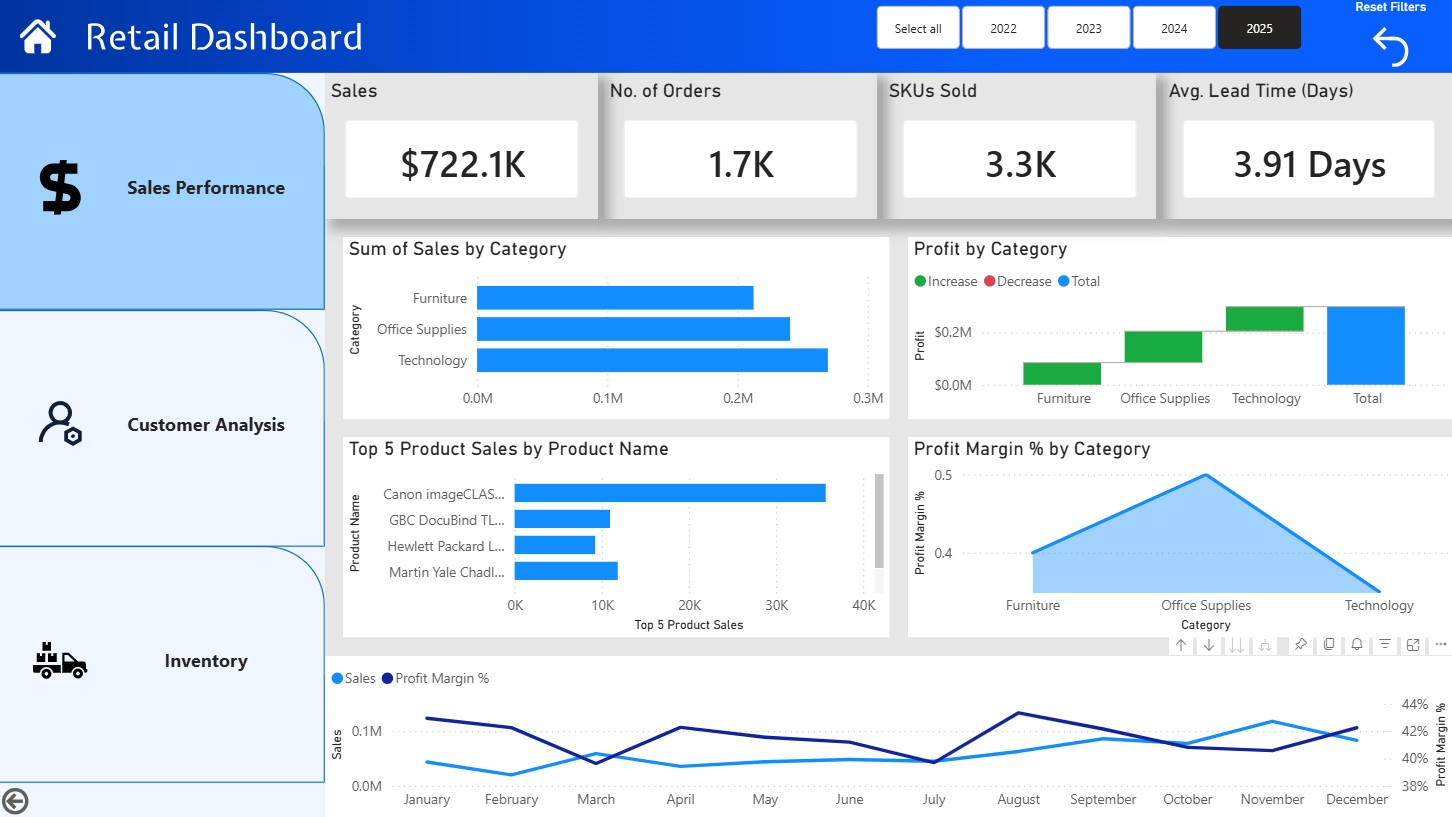

The page's visual inventory and layout, read from the dashboard file:
{"tool":"powerbi","page":{"name":"Sales Performance","canvas":[1280,720],"ordinal":0},"visuals":[{"type":"image","box":[0,0,1280,64],"z":0},{"type":"shape","box":[0,64,288,208],"z":0,"group":"g1"},{"type":"shape","box":[0,272,288,208],"z":0,"group":"g2"},{"type":"shape","box":[0,480,288,208],"z":0,"group":"g3"},{"type":"cardVisual","title":"Sales","fields":{"Data":["Orders.Total Sales"]},"box":[288,64,240,128],"z":1000},{"type":"image","box":[32,132.6,48,64],"z":1000,"group":"g1"},{"type":"image","box":[32,340.6,48,64],"z":1000,"group":"g2"},{"type":"image","box":[32,548.6,48,64],"z":1000,"group":"g3"},{"type":"cardVisual","title":"No. of Orders","fields":{"Data":["Count(Orders.Order ID)"]},"box":[533.3,64,240,128],"z":2000},{"type":"textbox","box":[96,148.6,176,32],"z":2000,"group":"g1"},{"type":"textbox","box":[96,356.6,176,32],"z":2000,"group":"g2"},{"type":"textbox","box":[96,564.6,176,32],"z":2000,"group":"g3"},{"type":"advancedSlicerVisual","fields":{"Values":["Date Table.Date.Variation.Date Hierarchy.Year"]},"box":[768,0,384,48],"z":3000},{"type":"image","box":[80,16,240,32],"z":4000},{"type":"image","box":[0,64,288,656],"z":5000},{"type":"image","box":[16,16,40,32],"z":6000},{"type":"group","id":"g1","title":"Group 2","box":[0,64,288,208],"z":7000},{"type":"cardVisual","title":"Avg. Lead Time (Days)","fields":{"Data":["Avg(Orders.Delivery Lead Time (Days))","select"]},"box":[1024,64,256,128],"z":8000},{"type":"group","id":"g2","title":"Group 2","box":[0,272,288,208],"z":9000},{"type":"group","id":"g3","title":"Group 2","box":[0,480,288,208],"z":10000},{"type":"barChart","fields":{"Category":["Orders.Category","Orders.Sub-Category","Orders.Product Name"],"Y":["Sum(Orders.Sales)"]},"box":[304,208,480,160],"z":11000},{"type":"waterfallChart","fields":{"Category":["Orders.Category","Orders.Sub-Category"],"Y":["Orders.Adjusted Profit"]},"box":[800,208,480,160],"z":12000},{"type":"barChart","fields":{"Category":["Orders.Product Name"],"Y":["Orders.Top 5 Product Sales"]},"box":[304,384,480,176],"z":13000},{"type":"actionButton","box":[0,688,96,32],"z":14000},{"type":"lineChart","fields":{"Category":["Date Table.Date.Variation.Date Hierarchy.Year","Date Table.Date.Variation.Date Hierarchy.Month"],"Y":["Sum(Orders.Sales)"],"Y2":["Orders.Adjusted Profit Margin %"]},"box":[288,576,992,144],"z":15000},{"type":"cardVisual","title":"SKUs Sold","fields":{"Data":["CountNonNull(Orders.Product ID)"]},"box":[778.7,64,240,128],"z":16000},{"type":"areaChart","fields":{"Category":["Orders.Category","Orders.Sub-Category"],"Y":["Orders.Estimated Profit Margin %"]},"box":[800,384,480,176],"z":17000},{"type":"actionButton","title":"Reset Filters","box":[1168,0,112,64],"z":18000}]}

Visuals, with their boxes in screenshot pixels (x1, y1, x2, y2), scaled from the page's 1280x720 canvas onto the 1452x817 screenshot:
image: (0,0,1451,73)
shape: (0,73,327,309)
shape: (0,309,327,545)
shape: (0,545,327,781)
"Sales" cardVisual: (327,73,599,218)
image: (36,150,91,223)
image: (36,386,91,459)
image: (36,623,91,695)
"No. of Orders" cardVisual: (605,73,877,218)
textbox: (109,169,309,205)
textbox: (109,405,309,441)
textbox: (109,641,309,677)
advancedSlicerVisual - Date Table.Date.Variation.Date Hierarchy.Year: (871,0,1307,54)
image: (91,18,363,54)
image: (0,73,327,816)
image: (18,18,64,54)
"Group 2" group: (0,73,327,309)
"Avg. Lead Time (Days)" cardVisual: (1162,73,1451,218)
"Group 2" group: (0,309,327,545)
"Group 2" group: (0,545,327,781)
barChart - Orders.Category x Orders.Sub-Category: (345,236,889,418)
waterfallChart - Orders.Category x Orders.Sub-Category: (907,236,1451,418)
barChart - Orders.Product Name x Orders.Top 5 Product Sales: (345,436,889,635)
actionButton: (0,781,109,816)
lineChart - Date Table.Date.Variation.Date Hierarchy.Year x Date Table.Date.Variation.Date Hierarchy.Month: (327,654,1451,816)
"SKUs Sold" cardVisual: (883,73,1156,218)
areaChart - Orders.Category x Orders.Sub-Category: (907,436,1451,635)
"Reset Filters" actionButton: (1325,0,1451,73)
